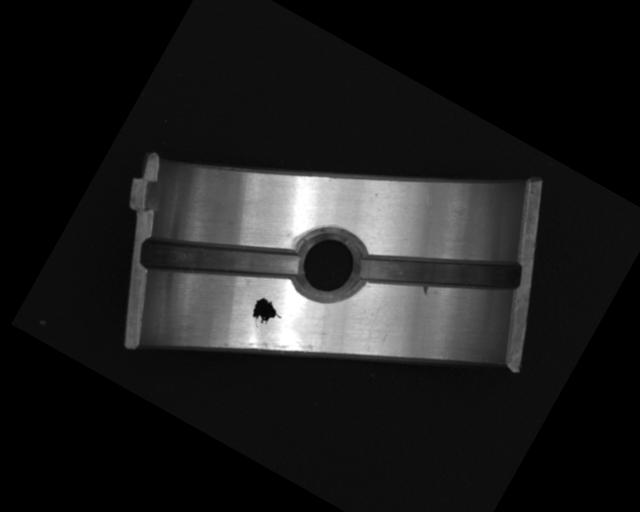blot: (243, 293, 286, 337)
bruise: (418, 283, 432, 296)
gap: (355, 198, 526, 348), (135, 189, 302, 333)
hole: (284, 218, 375, 312)
